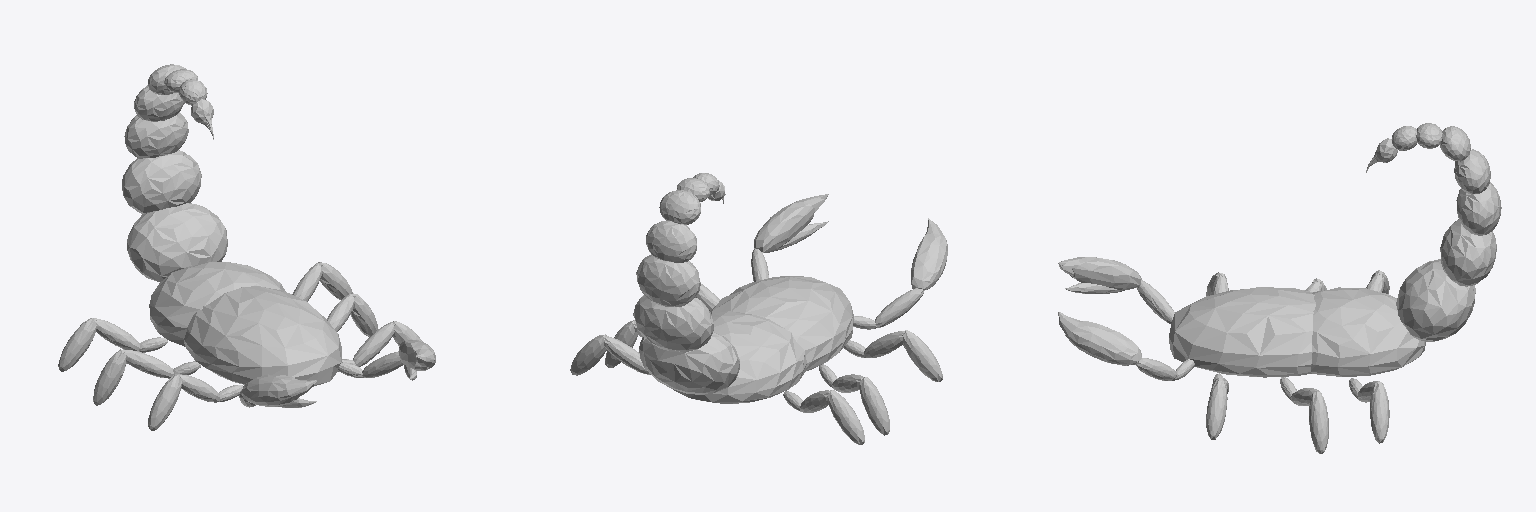
Rendered from scorpion_000031.obj.
3 views of the same model, side by side, from view 1: azimuth 30°, elevation 25°; view 2: azimuth 150°, elevation 25°; view 3: azimuth 270°, elevation 25° (orthographic).
Parts seen in each view (by area): view 1: Sphere.010_Sphere.012, Sphere.002_Sphere.004, Sphere.011_Sphere.013, Sphere.003_Sphere.005, Sphere.030_Sphere.000, Sphere.004_Sphere.006, Sphere.014_Sphere.023, Sphere.012_Sphere.020, Sphere.013_Sphere.017, Sphere.000_Sphere.019, Sphere.016_Sphere.022, Sphere.018_Sphere.025 (+4 smaller); view 2: Sphere.010_Sphere.012, Sphere.011_Sphere.013, Sphere.002_Sphere.004, Sphere.030_Sphere.000, Sphere.003_Sphere.005, Sphere.004_Sphere.006, Sphere.014_Sphere.023, Sphere.005_Sphere.007, Sphere.012_Sphere.020, Sphere.028_Sphere.046, Sphere.018_Sphere.025, Sphere.006_Sphere.008 (+2 smaller); view 3: Sphere.010_Sphere.012, Sphere.011_Sphere.013, Sphere.002_Sphere.004, Sphere.030_Sphere.000, Sphere.003_Sphere.005, Sphere.004_Sphere.006, Sphere.028_Sphere.046, Sphere.005_Sphere.007, Sphere.000_Sphere.019, Sphere.014_Sphere.023, Sphere.012_Sphere.020, Sphere.006_Sphere.008 (+1 smaller).
Boxes of the visible parts, x1=… form: Sphere.010_Sphere.012: x1=184, y1=286, x2=341, y2=386; Sphere.002_Sphere.004: x1=127, y1=203, x2=227, y2=281; Sphere.011_Sphere.013: x1=149, y1=262, x2=285, y2=346; Sphere.003_Sphere.005: x1=122, y1=150, x2=201, y2=213; Sphere.030_Sphere.000: x1=241, y1=340, x2=435, y2=406; Sphere.004_Sphere.006: x1=124, y1=112, x2=188, y2=158; Sphere.014_Sphere.023: x1=58, y1=262, x2=352, y2=371; Sphere.012_Sphere.020: x1=93, y1=293, x2=377, y2=405; Sphere.013_Sphere.017: x1=180, y1=323, x2=394, y2=402; Sphere.000_Sphere.019: x1=148, y1=321, x2=422, y2=430; Sphere.016_Sphere.022: x1=123, y1=294, x2=354, y2=378; Sphere.018_Sphere.025: x1=95, y1=263, x2=321, y2=350; Sphere.010_Sphere.012: x1=710, y1=276, x2=853, y2=371; Sphere.011_Sphere.013: x1=673, y1=311, x2=806, y2=403; Sphere.002_Sphere.004: x1=639, y1=330, x2=739, y2=394; Sphere.030_Sphere.000: x1=754, y1=194, x2=947, y2=289; Sphere.003_Sphere.005: x1=633, y1=295, x2=713, y2=352; Sphere.004_Sphere.006: x1=636, y1=255, x2=700, y2=306; Sphere.014_Sphere.023: x1=570, y1=334, x2=864, y2=444; Sphere.005_Sphere.007: x1=646, y1=221, x2=696, y2=262; Sphere.012_Sphere.020: x1=605, y1=320, x2=889, y2=435; Sphere.028_Sphere.046: x1=751, y1=248, x2=924, y2=327; Sphere.018_Sphere.025: x1=604, y1=336, x2=829, y2=412; Sphere.006_Sphere.008: x1=659, y1=190, x2=700, y2=224; Sphere.010_Sphere.012: x1=1169, y1=287, x2=1315, y2=377; Sphere.011_Sphere.013: x1=1311, y1=287, x2=1425, y2=376; Sphere.002_Sphere.004: x1=1396, y1=259, x2=1475, y2=341; Sphere.030_Sphere.000: x1=1058, y1=257, x2=1141, y2=365; Sphere.003_Sphere.005: x1=1440, y1=219, x2=1496, y2=286; Sphere.004_Sphere.006: x1=1456, y1=182, x2=1501, y2=235; Sphere.028_Sphere.046: x1=1135, y1=280, x2=1177, y2=380; Sphere.005_Sphere.007: x1=1454, y1=149, x2=1490, y2=194; Sphere.000_Sphere.019: x1=1206, y1=272, x2=1227, y2=439; Sphere.014_Sphere.023: x1=1370, y1=270, x2=1389, y2=443; Sphere.012_Sphere.020: x1=1309, y1=278, x2=1328, y2=453; Sphere.006_Sphere.008: x1=1440, y1=126, x2=1470, y2=161.
Bounding box in the file's own units: 0.9457 × 0.8042 × 1.24.